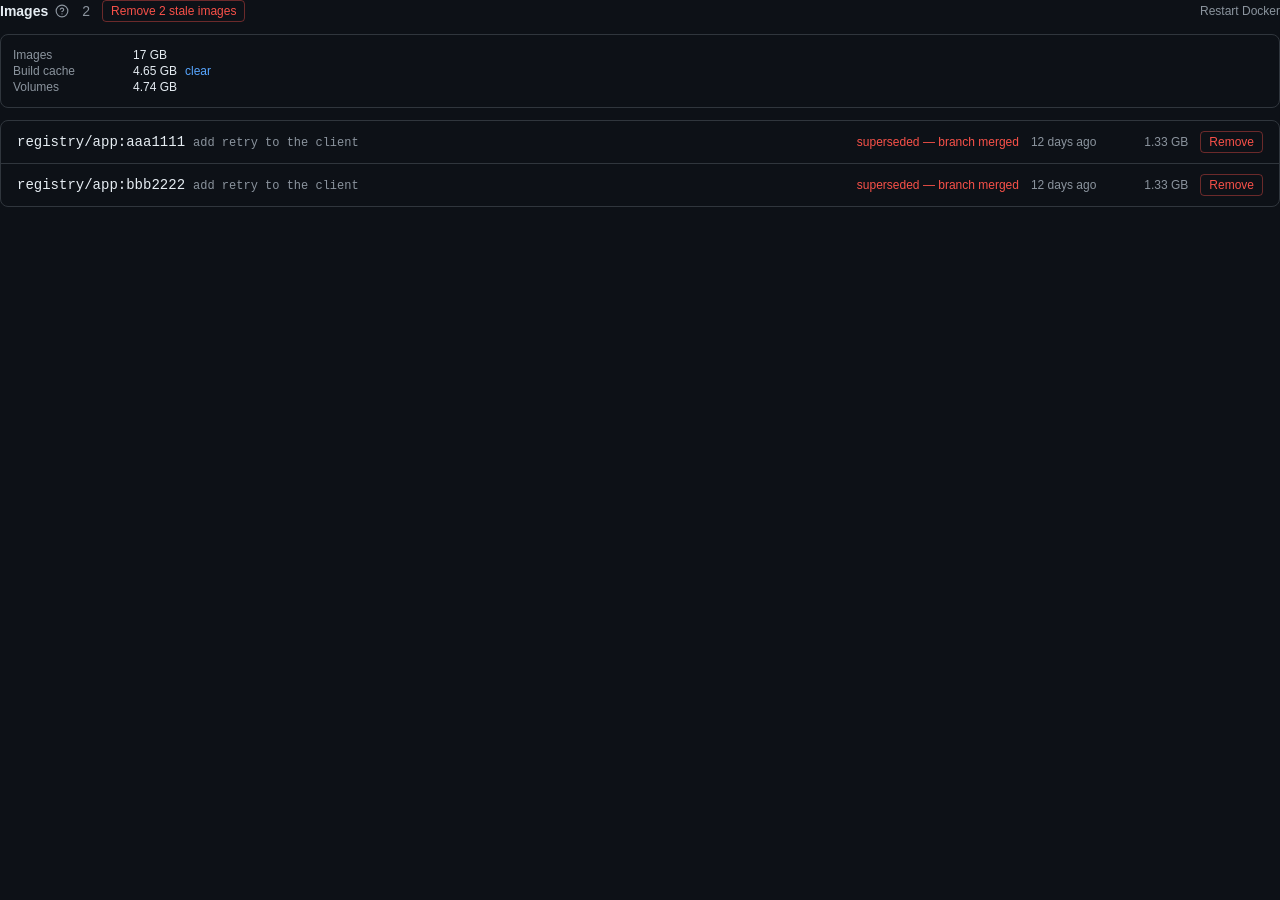
Test: DockerPage › lists every image in the bulk confirmation, not just a count
Click the button "Remove 2 stale images" at (174, 11), box [102,0,245,22]
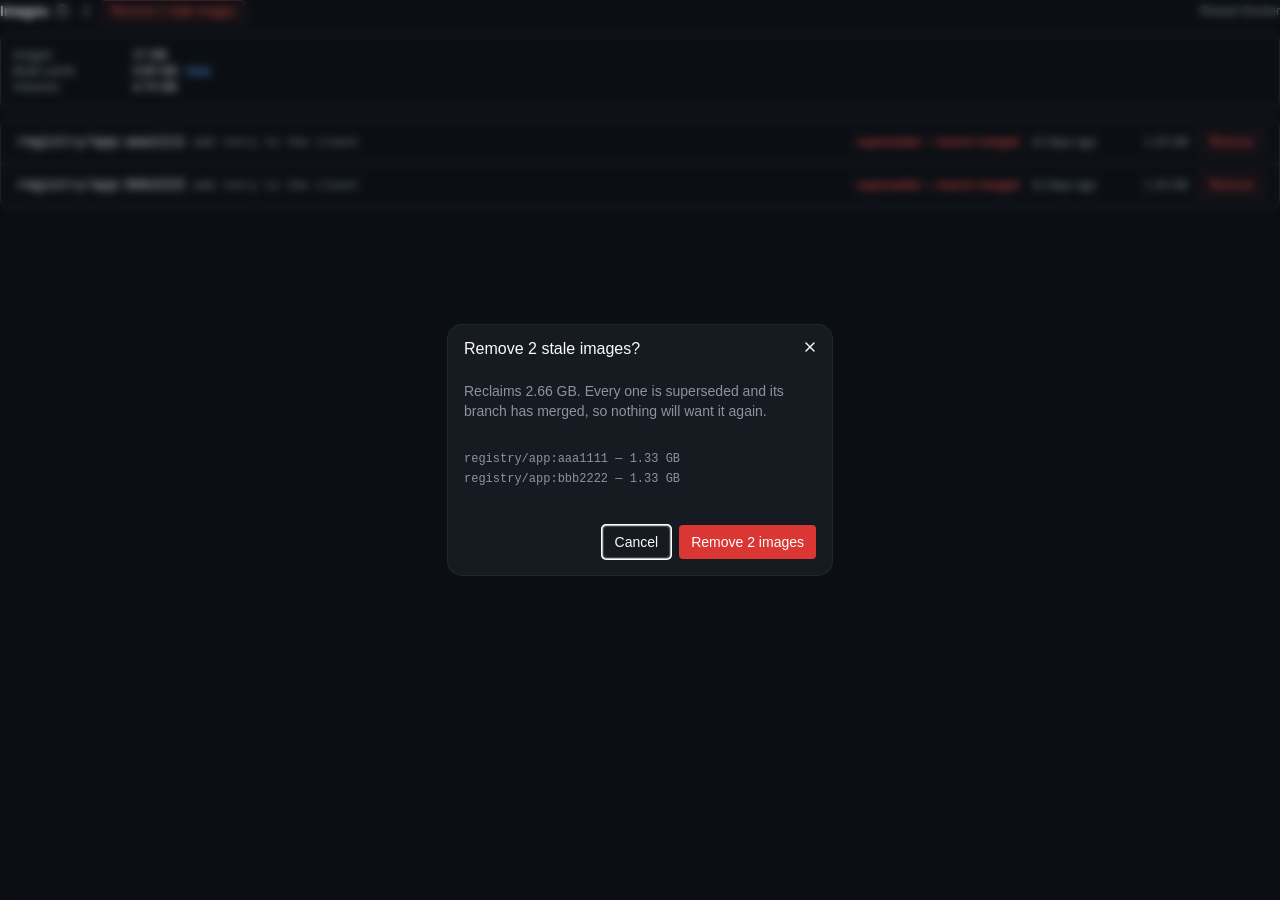
expect the list item "registry/app:aaa1111 — 1.33 GB" is shown: met, box [464,452,680,466]
expect the list item "registry/app:bbb2222 — 1.33 GB" is shown: met, box [464,472,680,486]
